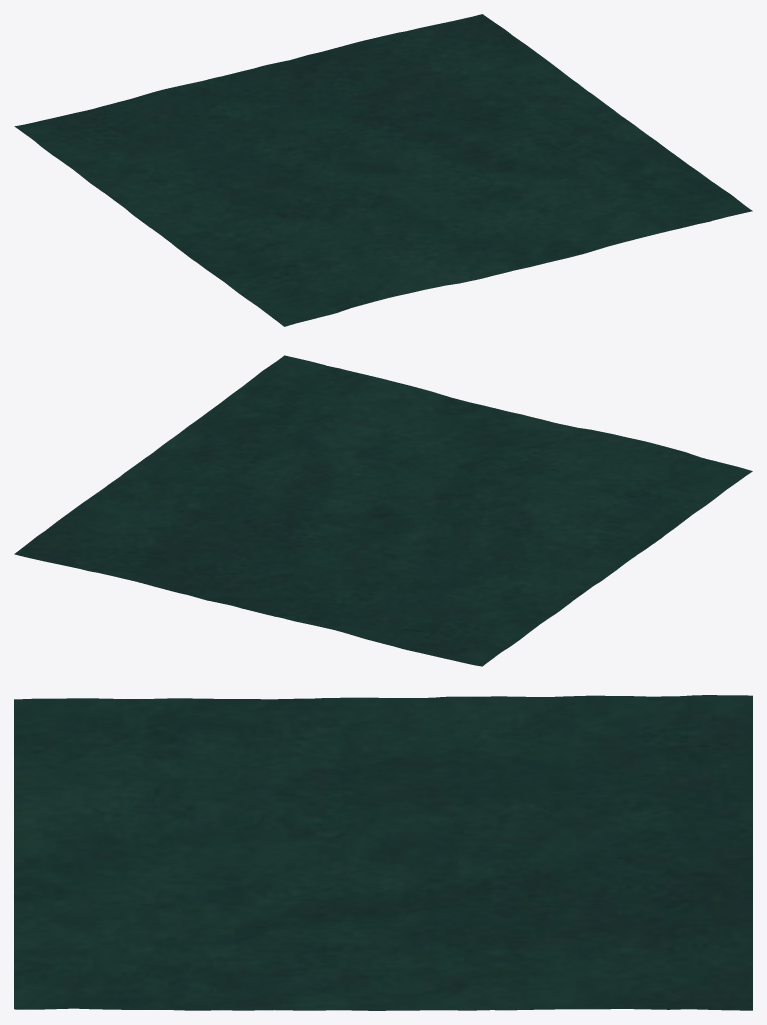
The picture shows the model from 3 angles, top to bottom: view 1: azimuth 30°, elevation 25°; view 2: azimuth 150°, elevation 25°; view 3: azimuth 270°, elevation 25°; orthographic projection. The views are drawn at different scales.
Size of the model in its own units: 104 by 1.1 by 104.
Materials: 2 (2 with a texture image).
